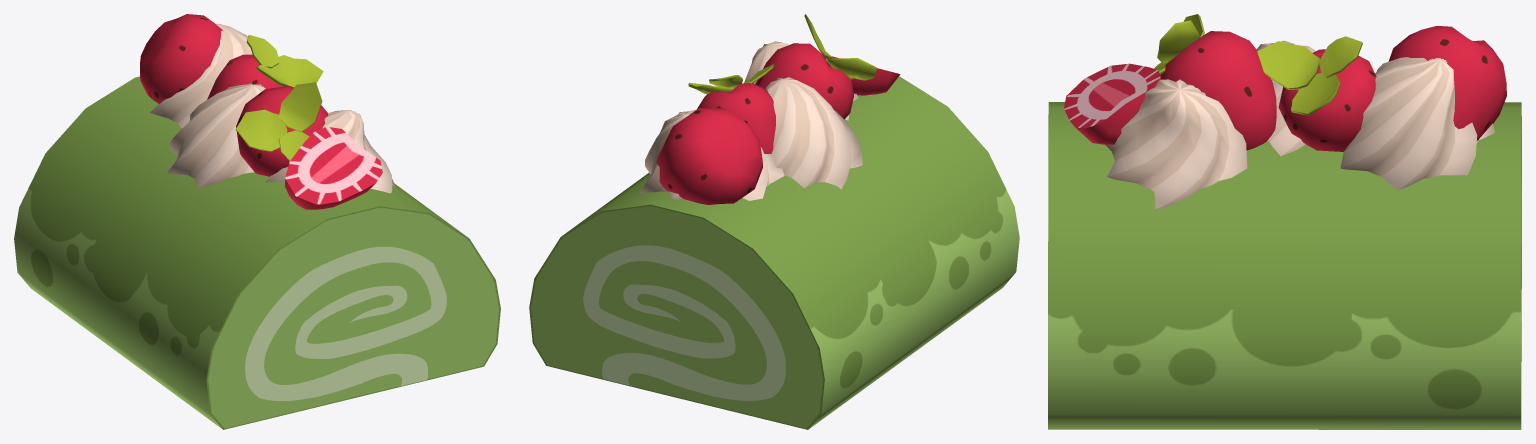
The model's file is m_swissrollV3.fbx.
3 views of the same model, side by side, from view 1: azimuth 30°, elevation 25°; view 2: azimuth 150°, elevation 25°; view 3: azimuth 270°, elevation 25° (orthographic). The views are drawn at different scales.
Visible parts, largest first — view 1: swiss rollV3; view 2: swiss rollV3; view 3: swiss rollV3.
Boxes of the visible parts, x1,y1,x2,y2 form: swiss rollV3: (14,14,500,429); swiss rollV3: (529,14,1019,429); swiss rollV3: (1048,14,1521,429).
Size of the model in its own units: 12.5 by 11.14 by 14.2.
